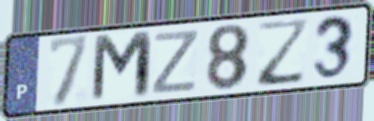3: (310, 12, 359, 85)
7: (47, 33, 93, 110)
8: (203, 21, 252, 93)
M: (89, 28, 155, 106)
Z: (256, 15, 311, 89), (149, 27, 202, 97)
